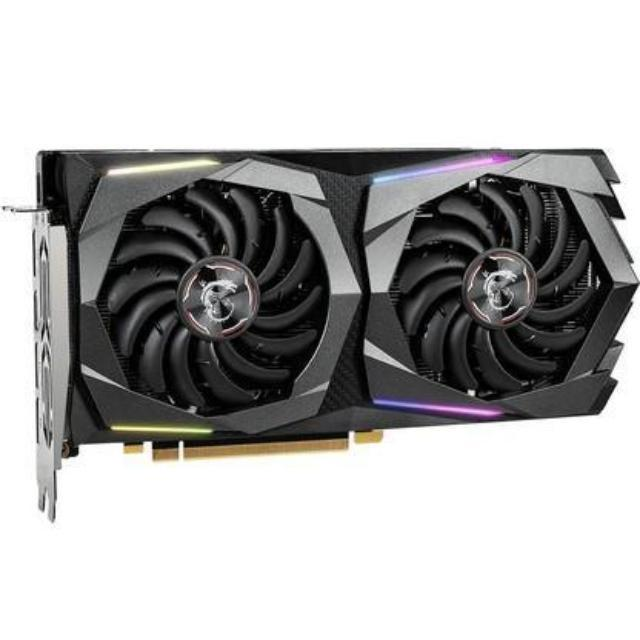GPU: (29, 144, 640, 462)
